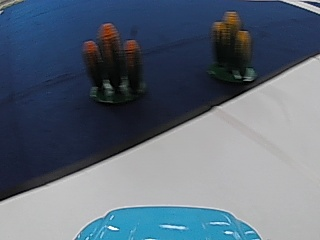corn: (83, 20, 142, 105), (209, 7, 254, 86)
